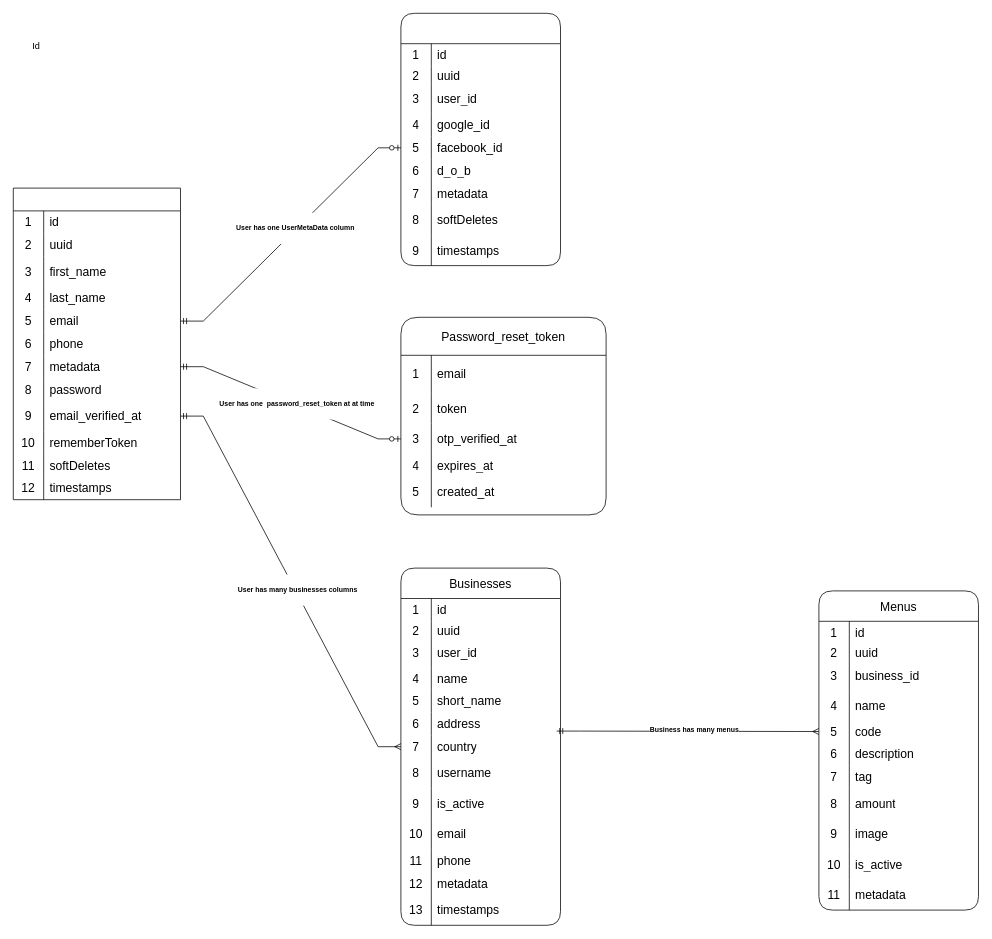
Image size: 992x939. Some labels were removed from this diagram. Here are the shapes that lost their labels. From the top down, the box of each, then its label:
(400, 13, 560, 266): UserMetaData
(13, 187, 180, 500): Users
